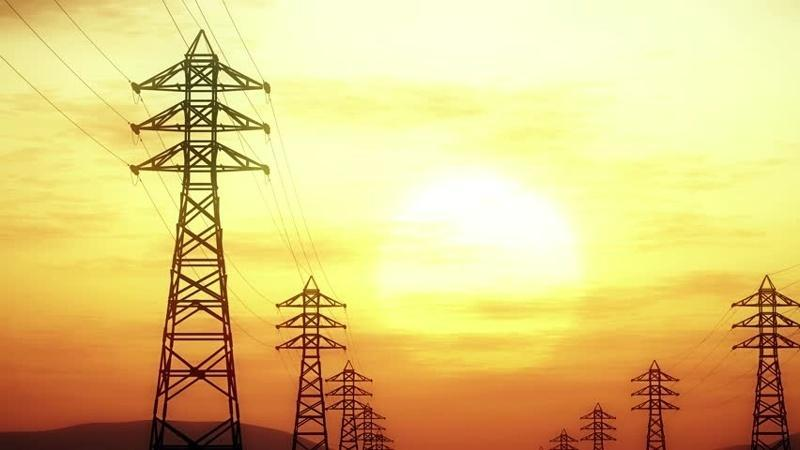power_tower: (127, 20, 274, 450), (272, 274, 350, 450), (730, 272, 800, 450), (630, 355, 682, 450), (324, 356, 371, 450), (578, 402, 618, 450), (352, 403, 386, 450), (548, 425, 580, 450), (366, 426, 396, 450), (536, 445, 546, 450)
